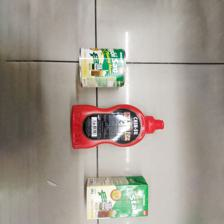Chinsu: (69, 103, 167, 150)
NSPN_Hop: (83, 176, 149, 219)
NSPN_Lon: (77, 45, 127, 90)
